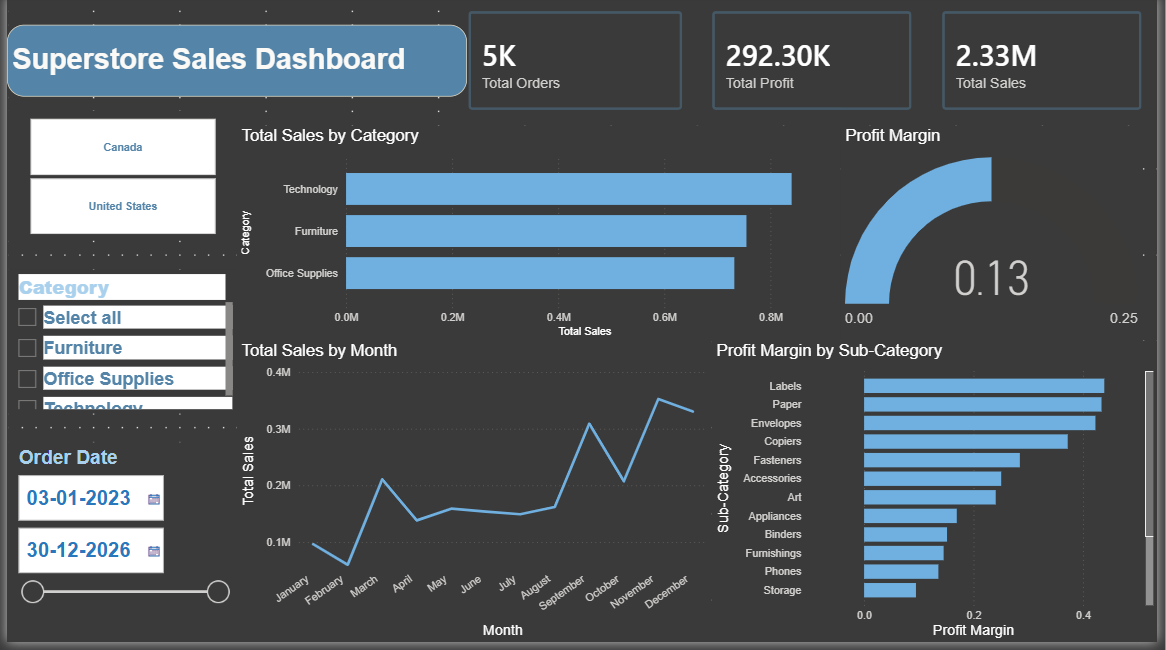

Layout of this report page (visuals, bound fields, positions):
{"tool":"powerbi","page":{"name":"Page 1","canvas":[1280,720],"ordinal":0},"visuals":[{"type":"cardVisual","fields":{"Data":["Orders.Total Sales"]},"box":[1024,0,256,144],"z":0},{"type":"cardVisual","fields":{"Data":["Orders.Total Profit"]},"box":[768,0,256,144],"z":1000},{"type":"cardVisual","fields":{"Data":["Orders.Total Orders"]},"box":[496,0,272,144],"z":2000},{"type":"gauge","fields":{"Y":["Orders.Profit Margin"]},"box":[928,144,336,240],"z":3000},{"type":"textbox","box":[0,384,352,80],"z":4000},{"type":"clusteredBarChart","fields":{"Y":["Orders.Total Sales"],"Category":["Orders.Category"]},"box":[256,144,672,240],"z":5000},{"type":"lineChart","fields":{"Category":["Orders.Order Date.Variation.Date Hierarchy.Month"],"Y":["Orders.Total Sales"]},"box":[256,384,528,336],"z":6000},{"type":"clusteredBarChart","fields":{"Y":["Orders.Profit Margin"],"Category":["Orders.Sub-Category"]},"box":[784,384,496,336],"z":7000},{"type":"slicer","fields":{"Values":["Orders.Country/Region"]},"box":[0,128,256,144],"z":8000},{"type":"slicer","fields":{"Values":["Orders.Category"]},"box":[0,304,256,160],"z":9000},{"type":"slicer","fields":{"Values":["Orders.Order Date"]},"box":[0,496,256,224],"z":10000},{"type":"textbox","box":[0,32,512,80],"z":11000}]}

Visuals, with their boxes in screenshot pixels (x1, y1, x2, y2), scaled from the page's 1280x720 canvas onto the 1166x650 screenshot:
cardVisual - Orders.Total Sales: bbox=[933, 0, 1165, 130]
cardVisual - Orders.Total Profit: bbox=[700, 0, 933, 130]
cardVisual - Orders.Total Orders: bbox=[452, 0, 700, 130]
gauge - Orders.Profit Margin: bbox=[845, 130, 1151, 347]
textbox: bbox=[0, 347, 321, 419]
clusteredBarChart - Orders.Total Sales x Orders.Category: bbox=[233, 130, 845, 347]
lineChart - Orders.Order Date.Variation.Date Hierarchy.Month x Orders.Total Sales: bbox=[233, 347, 714, 649]
clusteredBarChart - Orders.Profit Margin x Orders.Sub-Category: bbox=[714, 347, 1165, 649]
slicer - Orders.Country/Region: bbox=[0, 116, 233, 246]
slicer - Orders.Category: bbox=[0, 274, 233, 419]
slicer - Orders.Order Date: bbox=[0, 448, 233, 649]
textbox: bbox=[0, 29, 466, 101]
